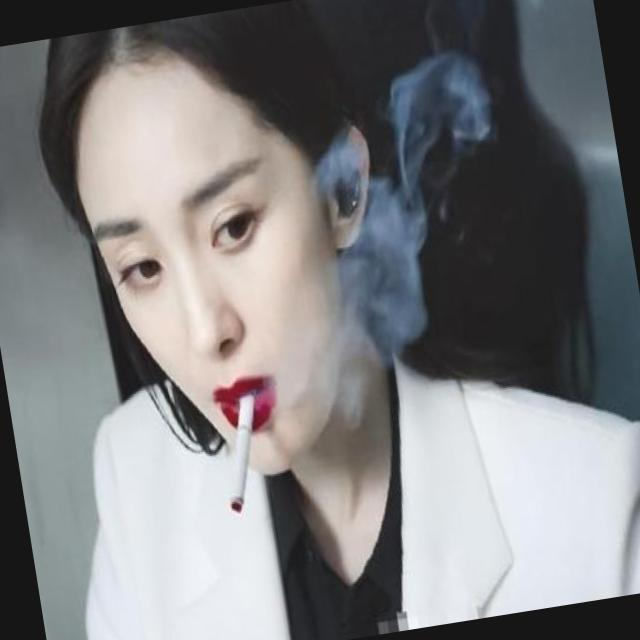smoke: (214, 390, 274, 516)
